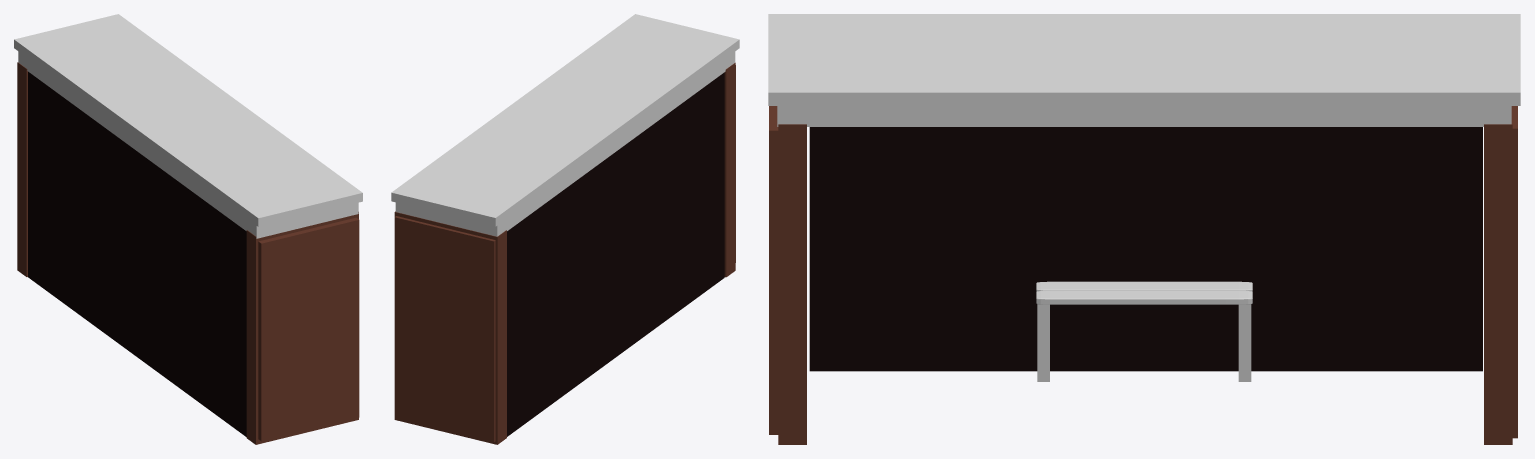
File: Bus_Stop.fbx
3 renders of one model, left to right at view 1: azimuth 30°, elevation 25°; view 2: azimuth 150°, elevation 25°; view 3: azimuth 270°, elevation 25°, orthographic. The views are drawn at different scales.
Visible parts, largest first — view 1: Behind, Top, Left, Right; view 2: Behind, Top, Right, Left; view 3: Behind, Top, Left, Right, Cube, Under_Seat_Right, Under_Seat_Left.
Boxes of the visible parts, <box> form: Behind: <box>28,71,246,436</box>; Top: <box>14,14,362,238</box>; Left: <box>246,212,359,444</box>; Right: <box>17,62,27,276</box>; Behind: <box>507,72,724,436</box>; Top: <box>391,14,739,236</box>; Right: <box>394,211,506,444</box>; Left: <box>724,62,735,277</box>; Behind: <box>809,127,1482,371</box>; Top: <box>768,14,1520,126</box>; Left: <box>769,106,806,444</box>; Right: <box>1484,106,1517,444</box>; Cube: <box>1036,281,1252,304</box>; Under_Seat_Right: <box>1238,304,1251,381</box>; Under_Seat_Left: <box>1037,304,1049,381</box>.
Size of the model in its own units: 105 by 220 by 426.
